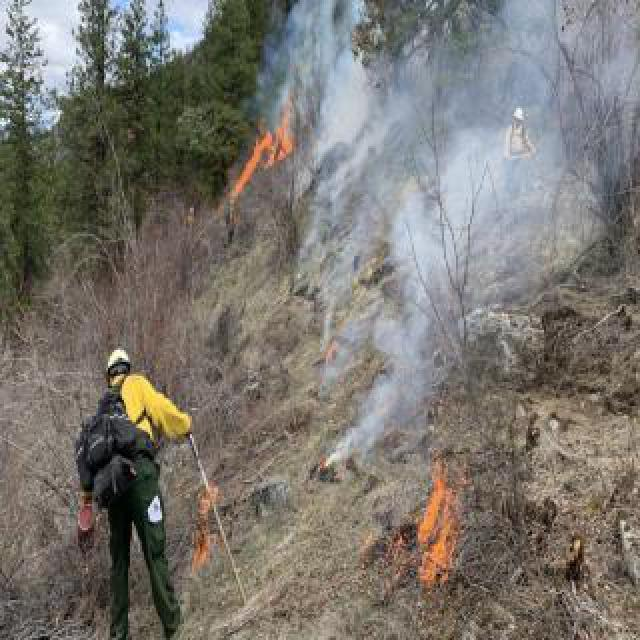Fire: (408, 450, 466, 594), (228, 118, 296, 190)
Smoke: (276, 0, 638, 448)
